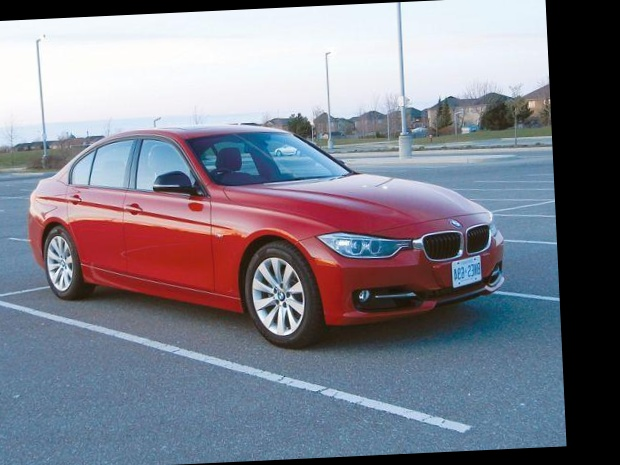car: (4, 91, 525, 377)
